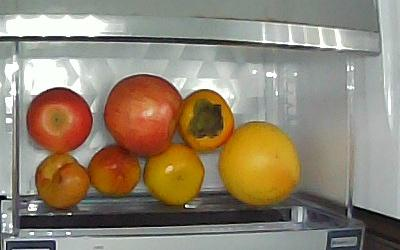apple: (105, 74, 183, 160), (26, 88, 94, 155)
grapefruit: (218, 120, 302, 208)
persimmon: (143, 144, 205, 206), (179, 89, 235, 154)
prune: (35, 154, 91, 209), (89, 143, 143, 195)
